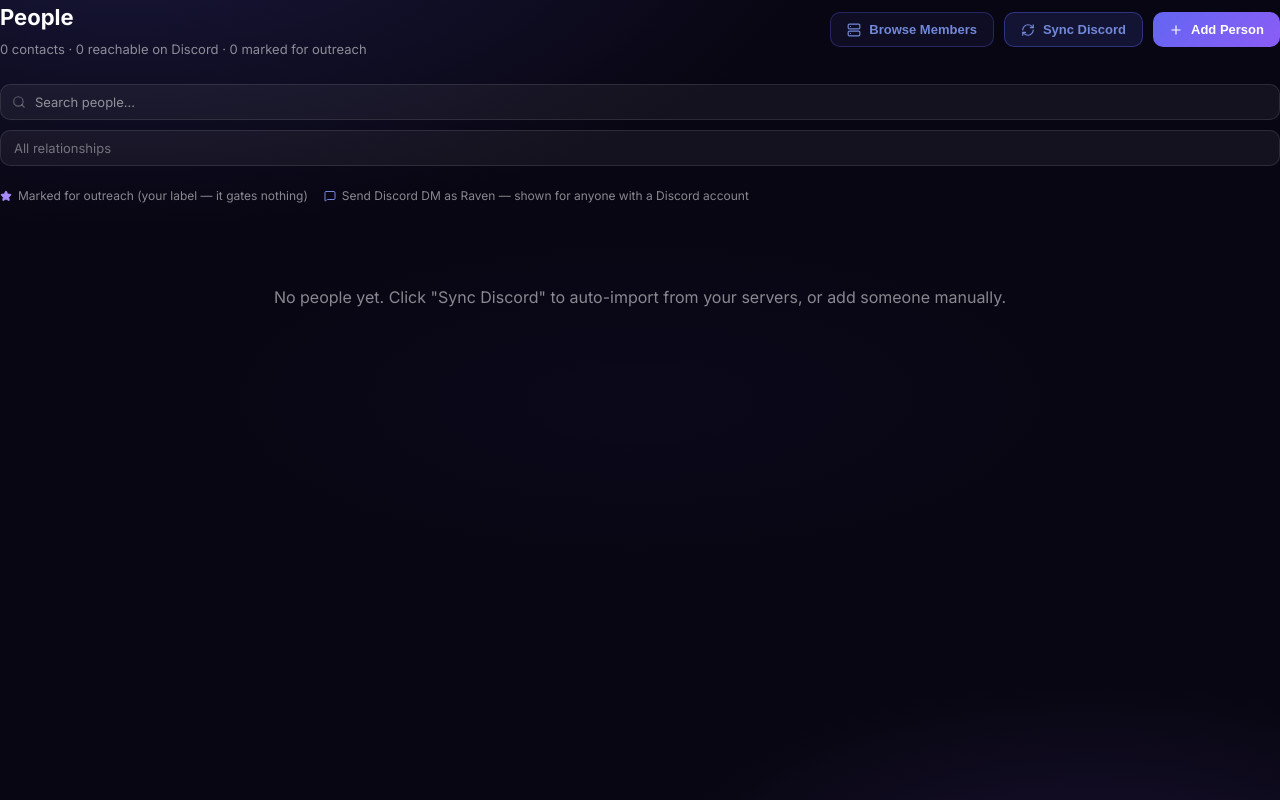
Test: GuildPickerModal — all servers › names the servers it could not read when the walk half-fails
Step 1. Click the button "Browse Members" → x=912, y=30, box [830, 12, 994, 48]
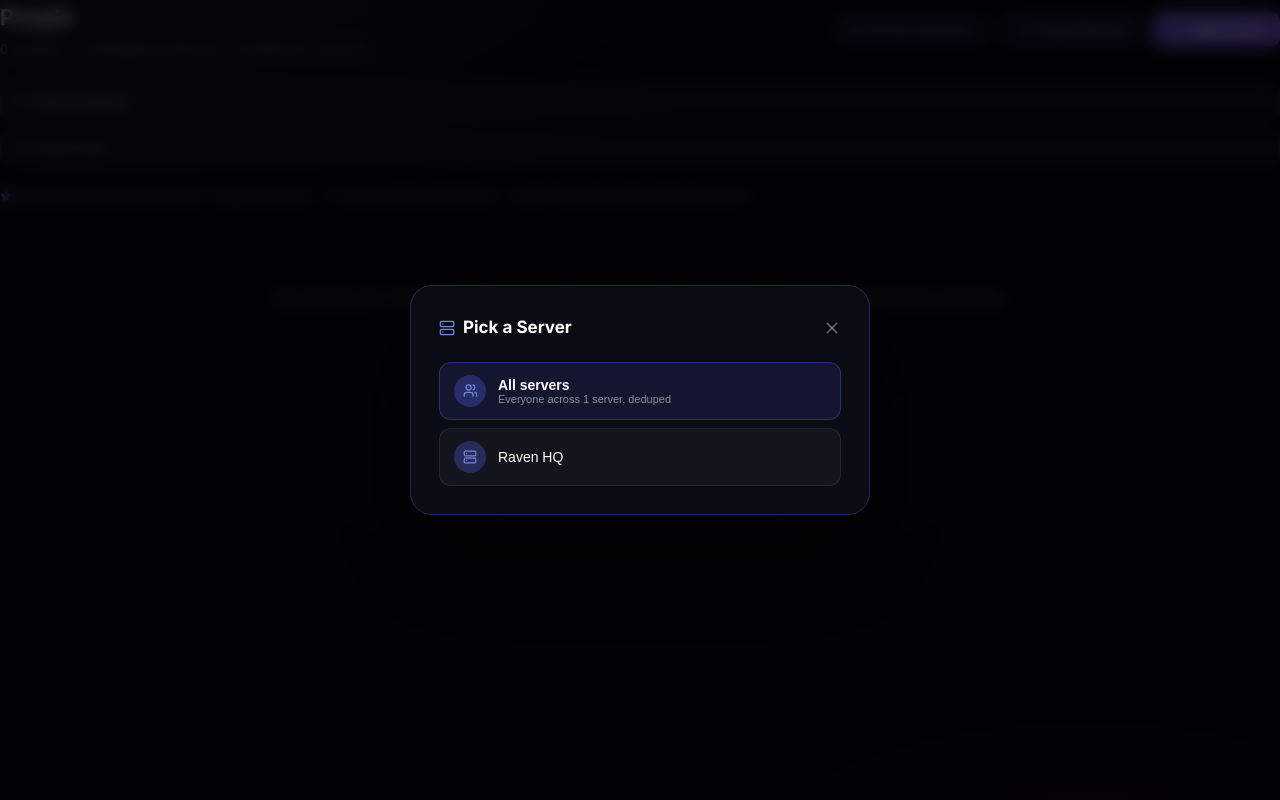
Step 2. Click the text "All servers" → x=534, y=385, box [498, 377, 570, 393]
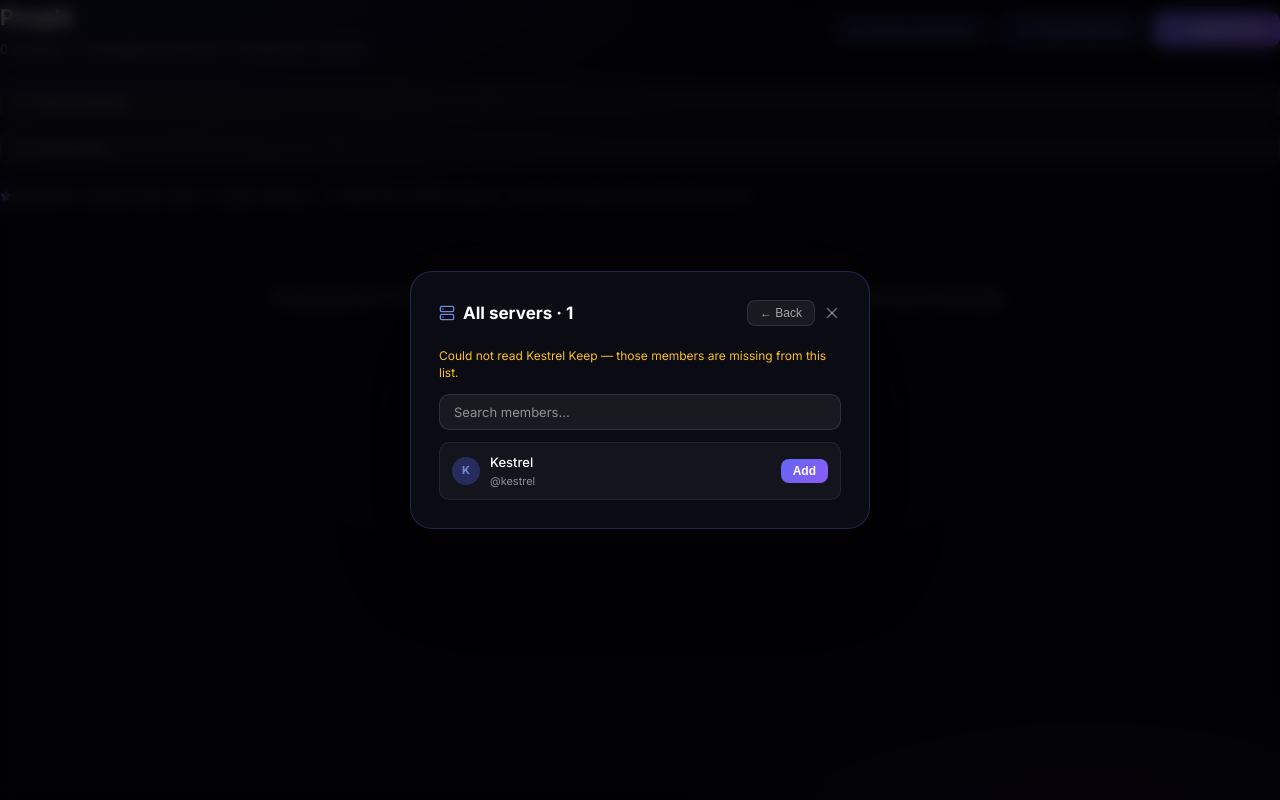
Now the text "Kestrel" is shown, box [490, 454, 533, 470]
Now the text "Could not read Kestrel Keep" is shown, box [439, 348, 826, 380]
